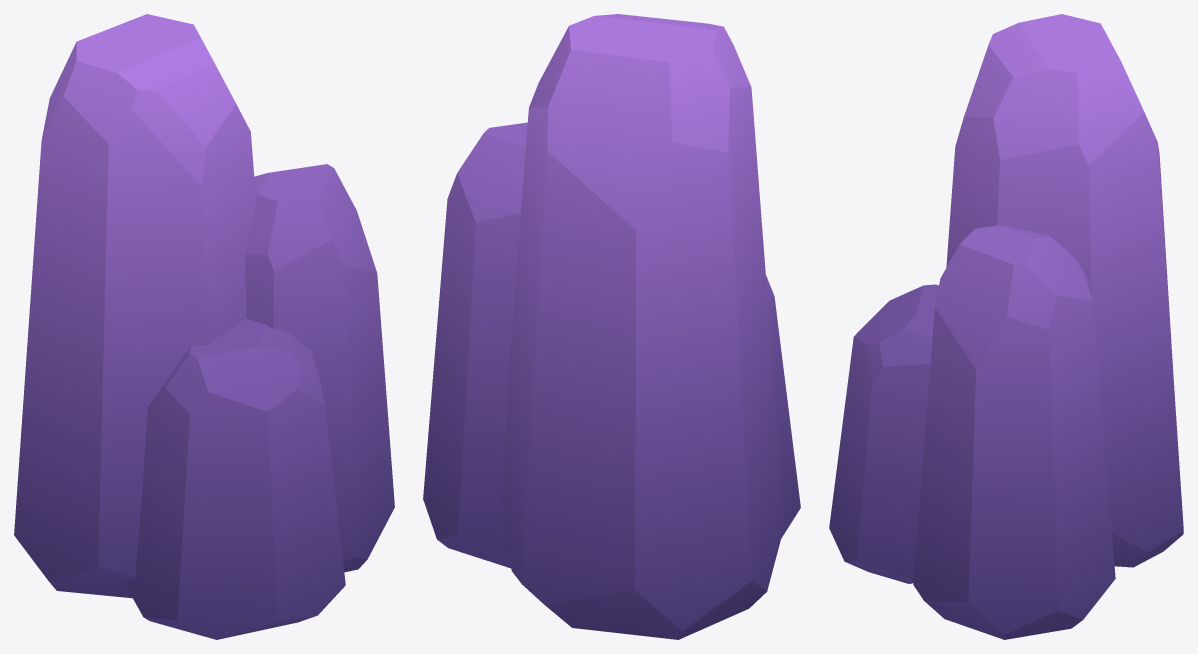
File: Crystal_P_13.glb
3 views of the same model, side by side, from view 1: azimuth 30°, elevation 25°; view 2: azimuth 150°, elevation 25°; view 3: azimuth 270°, elevation 25° (orthographic). The views are drawn at different scales.
Visible parts, largest first — view 1: crystal_13; view 2: crystal_13; view 3: crystal_13.
Boxes of the visible parts, x1,y1,x2,y2 form: crystal_13: (14, 14, 394, 639); crystal_13: (423, 14, 800, 639); crystal_13: (829, 14, 1183, 639).
Size of the model in its own units: 0.6497 by 1 by 0.6419.
1 material, 1 textured.
